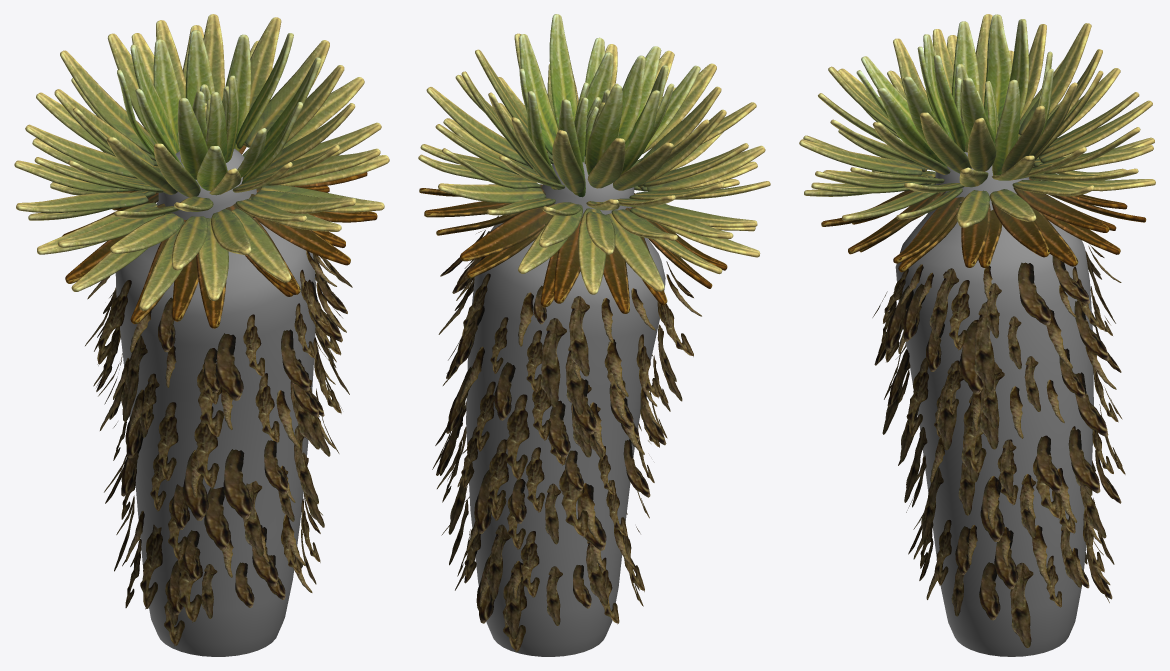
Rendered from frailejon_medio.fbx.
The picture shows the model from 3 angles, left to right: view 1: azimuth 30°, elevation 25°; view 2: azimuth 150°, elevation 25°; view 3: azimuth 270°, elevation 25°; orthographic projection. The views are drawn at different scales.
Parts seen in each view (by area): view 1: frailejon_medio _LOD0; view 2: frailejon_medio _LOD0; view 3: frailejon_medio _LOD0.
Part boxes in pixels (box(x1,y1,x2,y2)): frailejon_medio _LOD0: box(14, 14, 389, 656); frailejon_medio _LOD0: box(418, 14, 770, 656); frailejon_medio _LOD0: box(799, 14, 1155, 656).
Size of what is drawn, in the model's own units: 0.7278 by 0.705 by 1.26.
